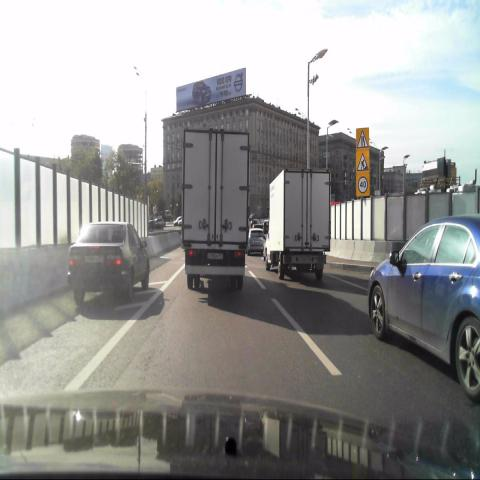1_20_2: (355, 128, 369, 148)
